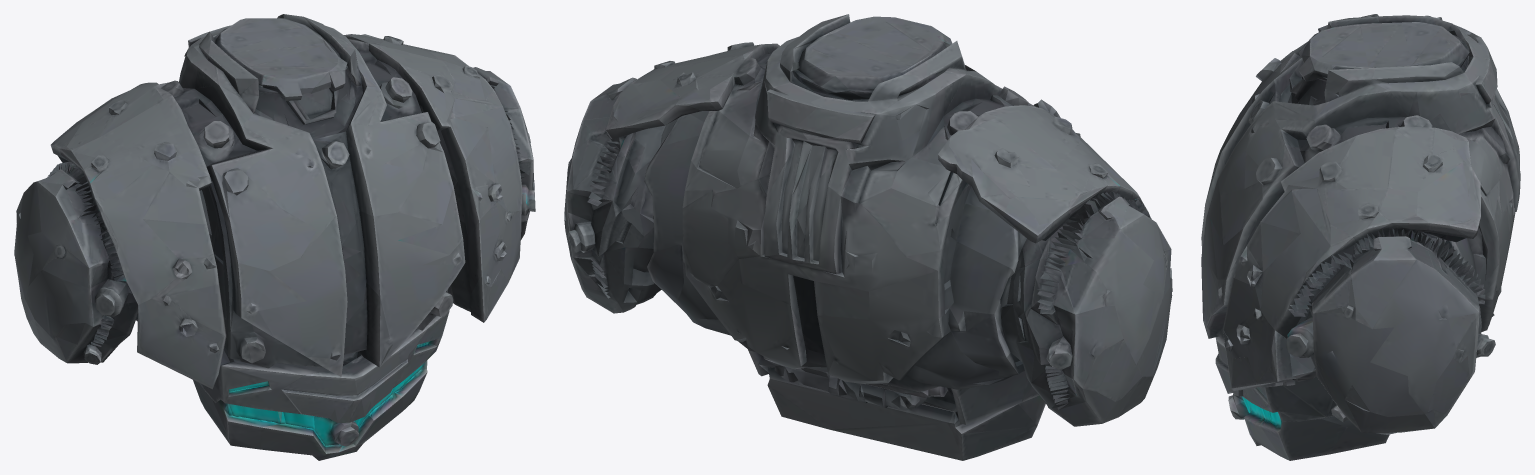
File: mx_part_armor.glb
The picture shows the model from 3 angles, left to right: view 1: azimuth 30°, elevation 25°; view 2: azimuth 150°, elevation 25°; view 3: azimuth 270°, elevation 25°; orthographic projection. The views are drawn at different scales.
Bounding box in the file's own units: 1.9 × 1.38 × 1.01.
1 material, 1 textured.
